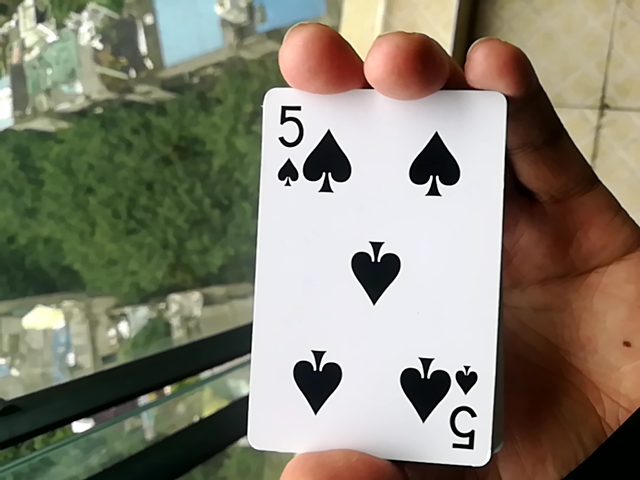ht 5: (234, 90, 498, 462)
